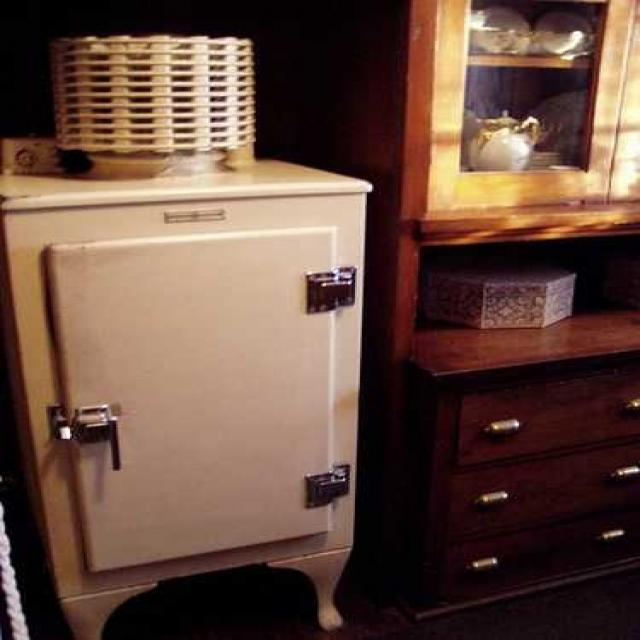refrigerator: (0, 182, 370, 593)
